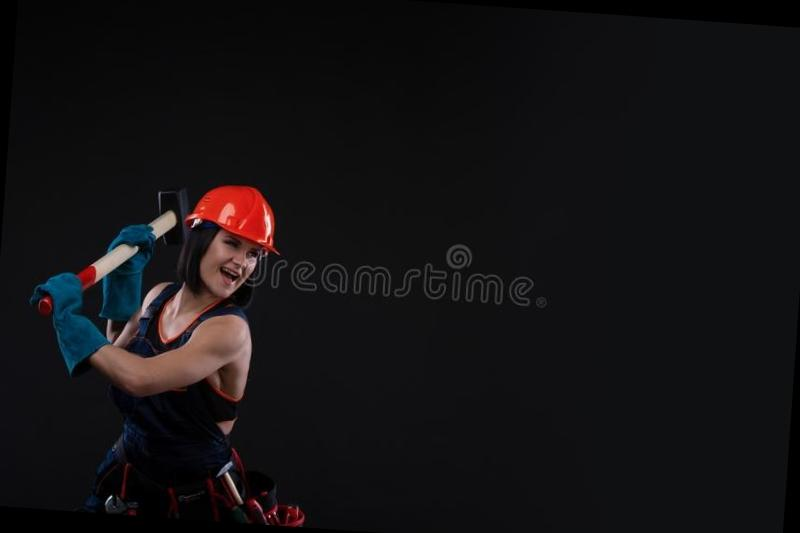helmet: (183, 179, 286, 254)
no_wear: (107, 286, 259, 481)
